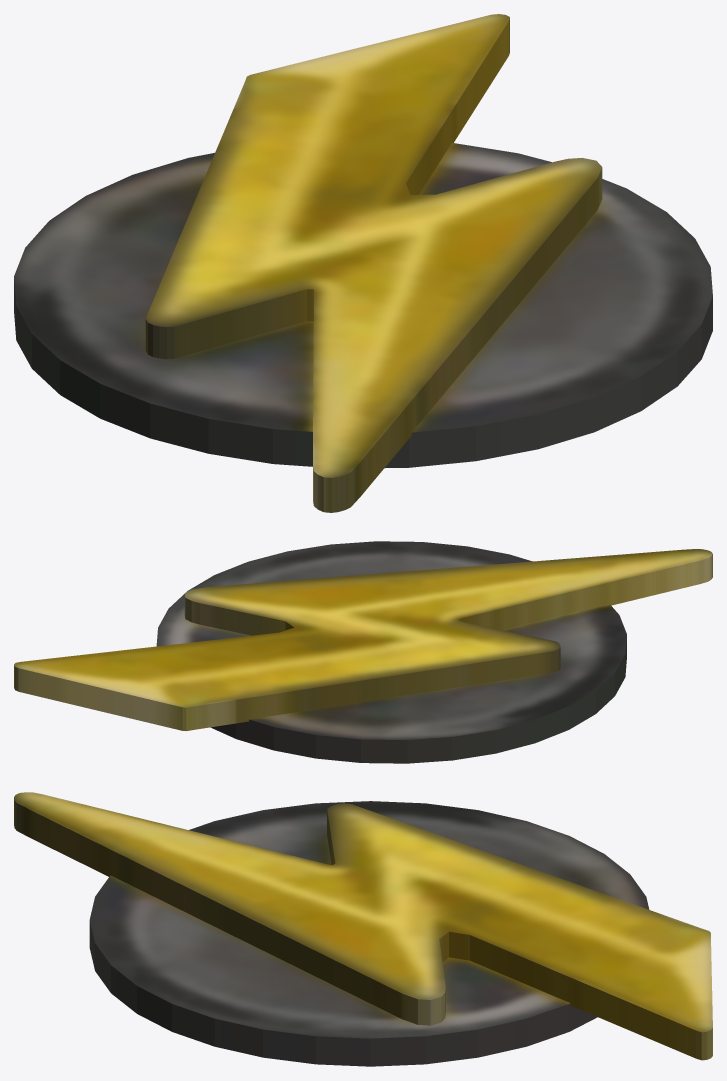
File: Trigger.glb
3 renders of one model, top to bottom at view 1: azimuth 30°, elevation 25°; view 2: azimuth 150°, elevation 25°; view 3: azimuth 270°, elevation 25°, orthographic. The views are drawn at different scales.
Visible parts, largest first — view 1: Trigger; view 2: Trigger; view 3: Trigger.
Part boxes in pixels (left/top/right/bottom): Trigger: left=14, top=14, right=712, bottom=512; Trigger: left=14, top=541, right=712, bottom=763; Trigger: left=14, top=792, right=712, bottom=1066.
Size of the model in its own units: 0.4905 by 0.0479 by 0.564.
Materials: 1 (1 with a texture image).
